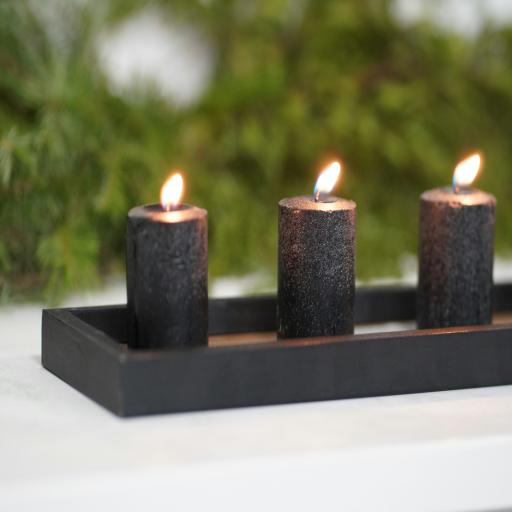candlelight: (127, 169, 211, 349), (278, 158, 360, 340), (416, 152, 496, 328), (310, 158, 342, 204), (158, 170, 186, 216), (451, 151, 482, 192)
